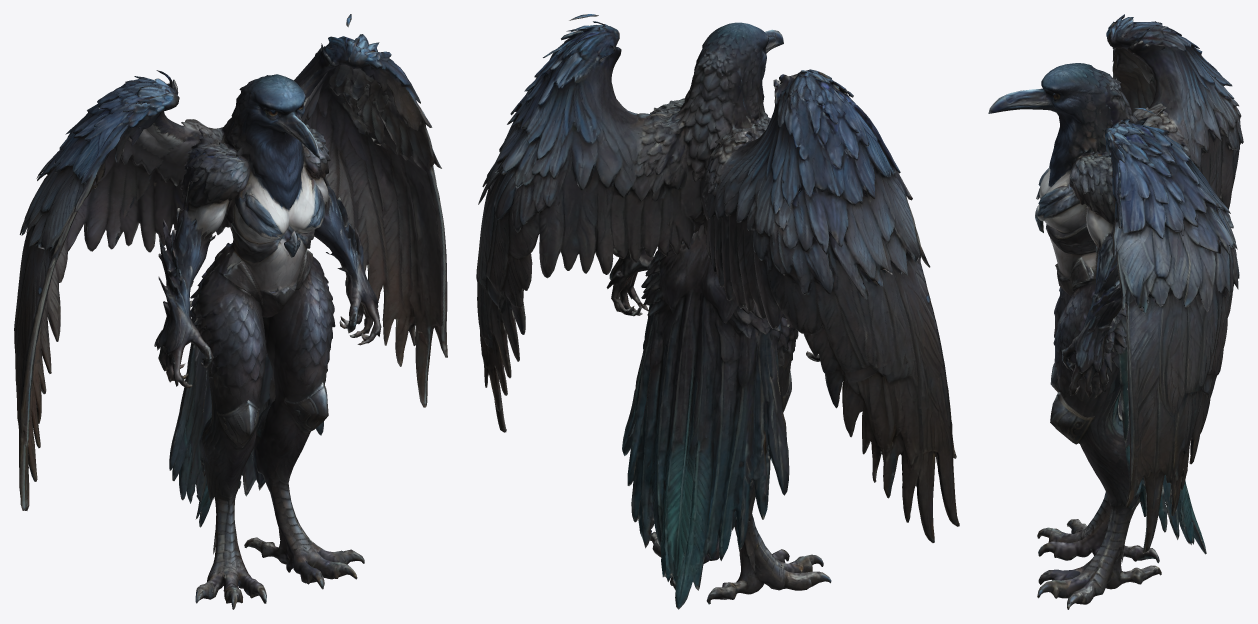
File: GGachi 1.fbx
3 renders of one model, left to right at view 1: azimuth 30°, elevation 25°; view 2: azimuth 150°, elevation 25°; view 3: azimuth 270°, elevation 25°, orthographic. The views are drawn at different scales.
Visible parts, largest first — view 1: texture_mapping; view 2: texture_mapping; view 3: texture_mapping.
Boxes of the visible parts, bbox=[...] form: texture_mapping: bbox=[14, 14, 447, 609]; texture_mapping: bbox=[476, 14, 959, 609]; texture_mapping: bbox=[988, 14, 1243, 609].
Bounding box in the file's own units: 0.8716 × 0.4472 × 1.
Materials: 1 (1 with a texture image).
